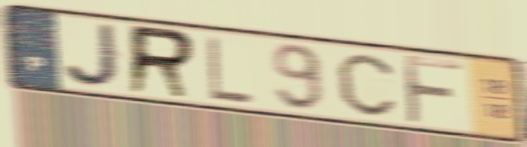9: (268, 41, 328, 113)
C: (334, 51, 399, 119)
F: (400, 51, 468, 127)
J: (60, 21, 127, 90)
L: (204, 32, 256, 107)
R: (124, 22, 198, 102)
